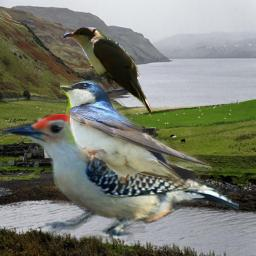Cuckoo: (61, 27, 152, 118)
Swallow: (60, 80, 212, 193)
Woodpecker: (2, 114, 239, 243)
